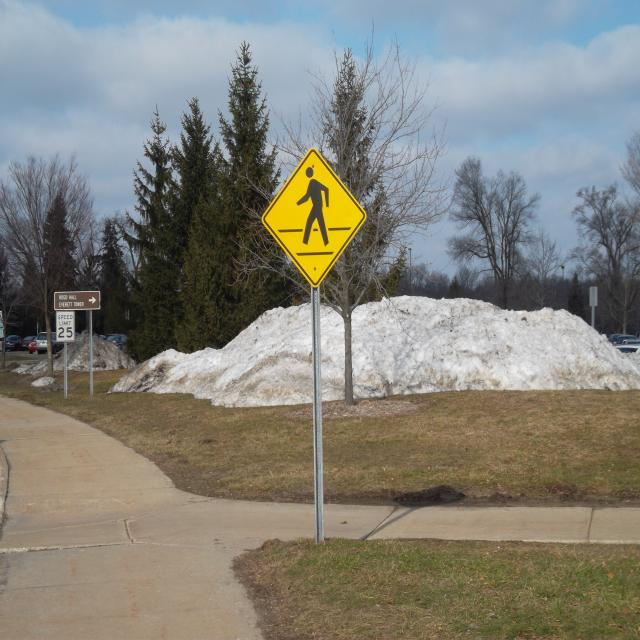regulatory: (55, 311, 75, 343)
warning: (268, 146, 369, 295)
